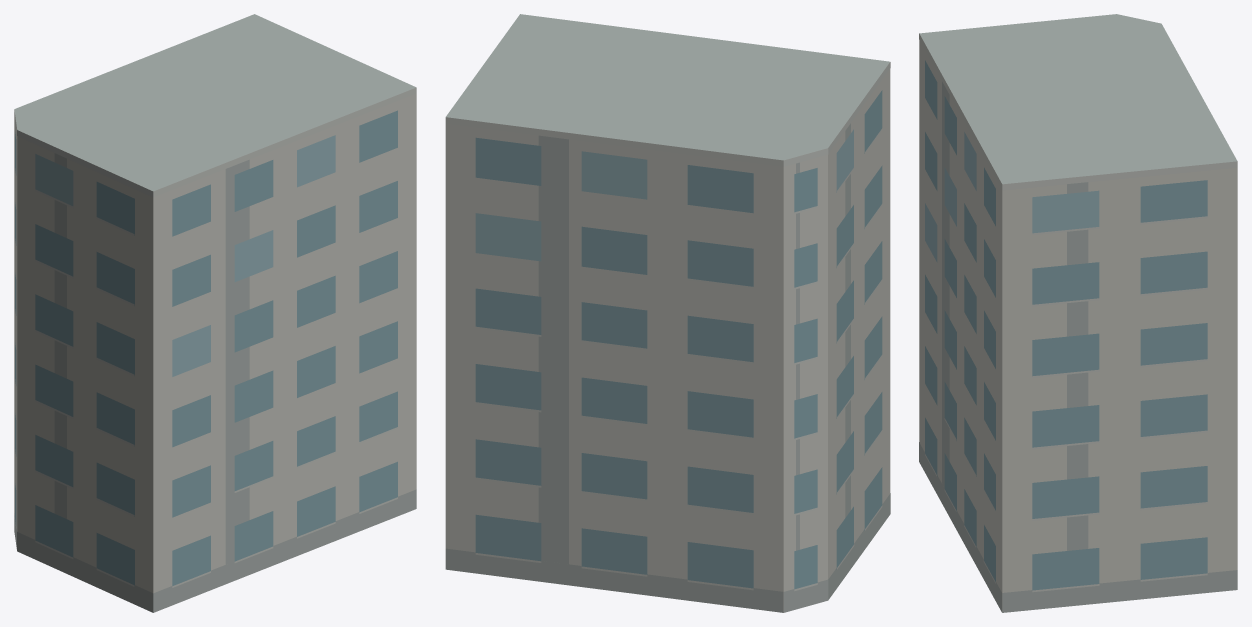
Rendered from survey-upis-32812202.glb.
The picture shows the model from 3 angles, left to right: view 1: azimuth 30°, elevation 25°; view 2: azimuth 150°, elevation 25°; view 3: azimuth 270°, elevation 25°; orthographic projection. The views are drawn at different scales.
Visible parts, largest first — view 1: survey-upis-32812202.tmp; view 2: survey-upis-32812202.tmp; view 3: survey-upis-32812202.tmp.
Part boxes in pixels (x1,y1,x2,y2): survey-upis-32812202.tmp: (14, 14, 416, 612); survey-upis-32812202.tmp: (445, 14, 890, 612); survey-upis-32812202.tmp: (919, 14, 1237, 612).
Size of the model in its own units: 14.41 by 16.9 by 11.39.
